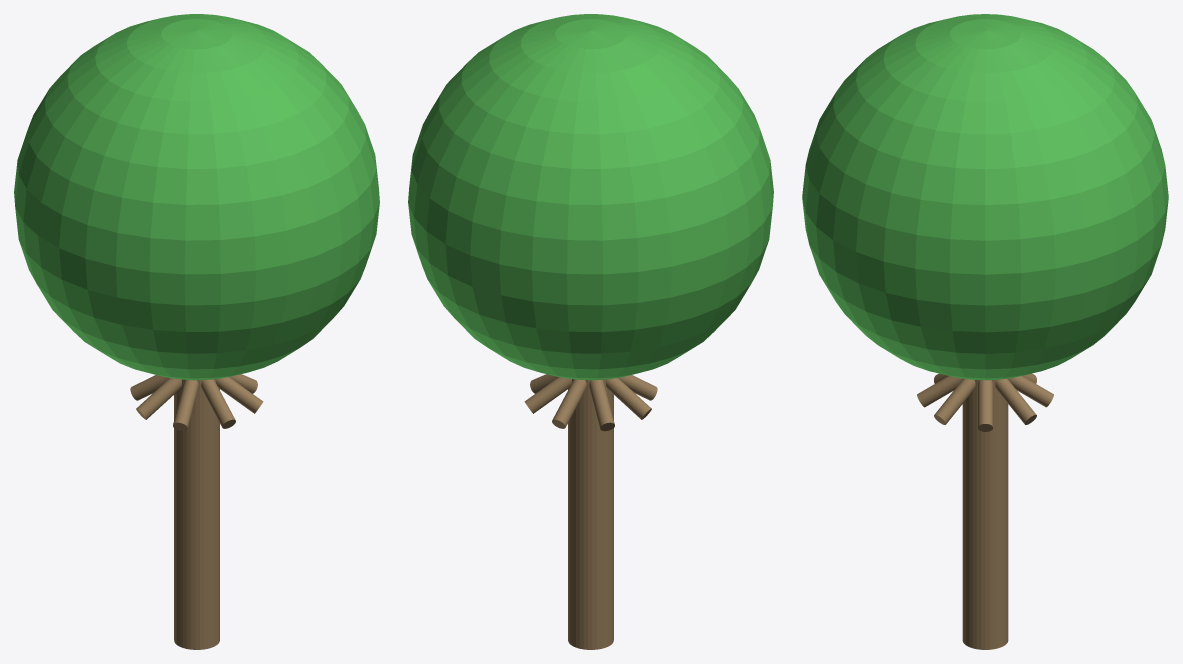
The picture shows the model from 3 angles, left to right: view 1: azimuth 30°, elevation 25°; view 2: azimuth 150°, elevation 25°; view 3: azimuth 270°, elevation 25°; orthographic projection.
Parts seen in each view (by area): view 1: Leaves, Tree_Trunk, Branch_2, Branch_1, Branch_0, Branch_3, Branch_7; view 2: Leaves, Tree_Trunk, Branch_6, Branch_7, Branch_0, Branch_5, Branch_1; view 3: Leaves, Tree_Trunk, Branch_3, Branch_5, Branch_4, Branch_2, Branch_6.
Part boxes in pixels (x1=…): Leaves: x1=14, y1=14, x2=379, y2=380; Tree_Trunk: x1=174, y1=379, x2=219, y2=649; Branch_2: x1=201, y1=379, x2=235, y2=428; Branch_1: x1=173, y1=379, x2=198, y2=431; Branch_0: x1=136, y1=378, x2=181, y2=419; Branch_3: x1=215, y1=377, x2=263, y2=413; Branch_7: x1=130, y1=375, x2=169, y2=400; Leaves: x1=408, y1=14, x2=773, y2=380; Tree_Trunk: x1=568, y1=379, x2=613, y2=649; Branch_6: x1=552, y1=379, x2=586, y2=428; Branch_7: x1=589, y1=379, x2=614, y2=431; Branch_0: x1=606, y1=378, x2=651, y2=419; Branch_5: x1=524, y1=377, x2=572, y2=413; Branch_1: x1=618, y1=375, x2=657, y2=400; Leaves: x1=802, y1=14, x2=1168, y2=380; Tree_Trunk: x1=962, y1=380, x2=1008, y2=649; Branch_3: x1=934, y1=378, x2=975, y2=424; Branch_5: x1=995, y1=378, x2=1036, y2=424; Branch_4: x1=978, y1=380, x2=992, y2=431; Branch_2: x1=917, y1=376, x2=962, y2=407; Branch_6: x1=1008, y1=376, x2=1053, y2=407.
Bounding box in the file's own units: 2.4 × 4.4 × 2.4.
